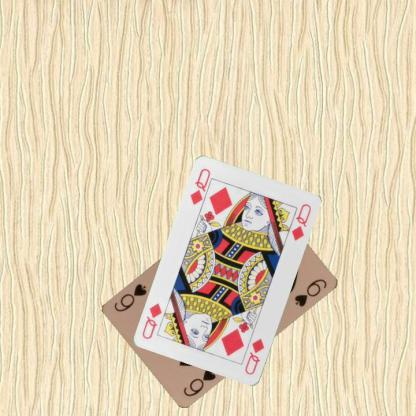6s: (180, 365, 218, 398)
Qd: (188, 166, 214, 211), (242, 336, 266, 376)
